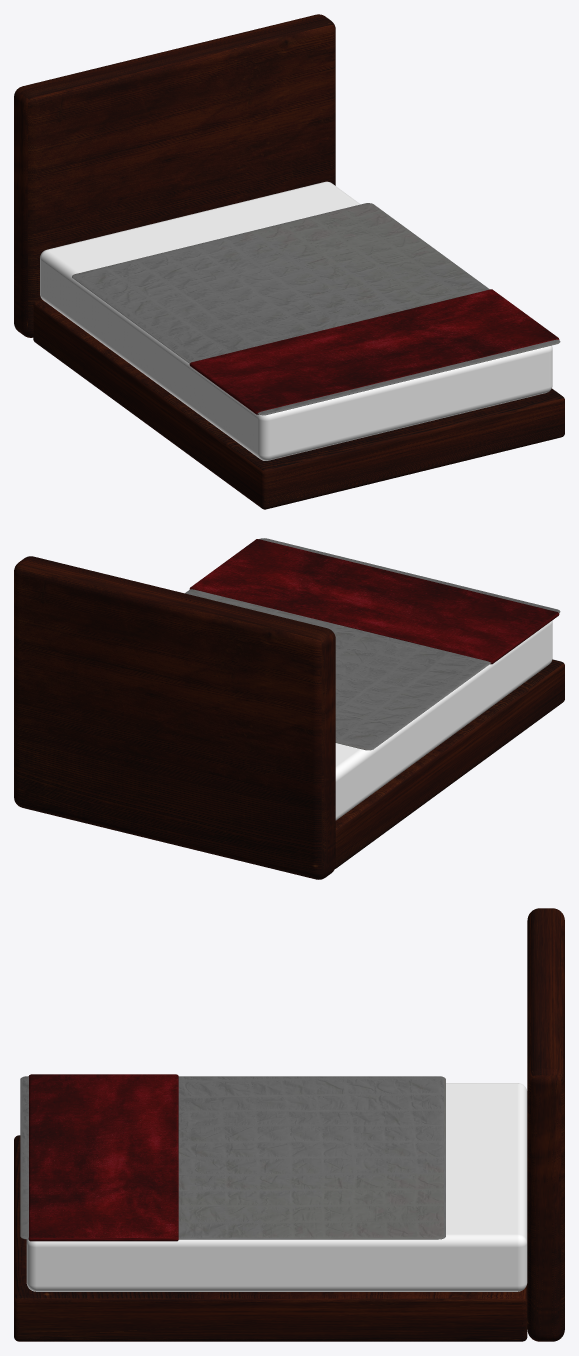
The model's file is state-default.glb.
3 renders of one model, top to bottom at view 1: azimuth 30°, elevation 25°; view 2: azimuth 150°, elevation 25°; view 3: azimuth 270°, elevation 25°, orthographic. The views are drawn at different scales.
Parts seen in each view (by area): view 1: assetPrim:28f8380d2b909-19c7325a1fe:bed-headboard-tufted, assetPrim:28f8380d2b909-19c7325a1fe:bed-duvet-cover, assetPrim:28f8380d2b909-19c7325a1fe:bed-mattress-core, assetPrim:28f8380d2b909-19c7325a1fe:bed-frame-base, assetPrim:28f8380d2b909-19c7325a1fe:bed-throw-blanket; view 2: assetPrim:28f8380d2b909-19c7325a1fe:bed-headboard-tufted, assetPrim:28f8380d2b909-19c7325a1fe:bed-throw-blanket, assetPrim:28f8380d2b909-19c7325a1fe:bed-duvet-cover, assetPrim:28f8380d2b909-19c7325a1fe:bed-frame-base, assetPrim:28f8380d2b909-19c7325a1fe:bed-mattress-core; view 3: assetPrim:28f8380d2b909-19c7325a1fe:bed-duvet-cover, assetPrim:28f8380d2b909-19c7325a1fe:bed-mattress-core, assetPrim:28f8380d2b909-19c7325a1fe:bed-frame-base, assetPrim:28f8380d2b909-19c7325a1fe:bed-throw-blanket, assetPrim:28f8380d2b909-19c7325a1fe:bed-headboard-tufted.
Part boxes in pixels (x1,y1,x2,y2): assetPrim:28f8380d2b909-19c7325a1fe:bed-headboard-tufted: [14, 14, 335, 337]; assetPrim:28f8380d2b909-19c7325a1fe:bed-duvet-cover: [72, 203, 560, 415]; assetPrim:28f8380d2b909-19c7325a1fe:bed-mattress-core: [40, 181, 552, 460]; assetPrim:28f8380d2b909-19c7325a1fe:bed-frame-base: [33, 300, 564, 509]; assetPrim:28f8380d2b909-19c7325a1fe:bed-throw-blanket: [189, 289, 559, 414]; assetPrim:28f8380d2b909-19c7325a1fe:bed-headboard-tufted: [14, 556, 335, 879]; assetPrim:28f8380d2b909-19c7325a1fe:bed-throw-blanket: [189, 539, 559, 664]; assetPrim:28f8380d2b909-19c7325a1fe:bed-duvet-cover: [185, 538, 560, 750]; assetPrim:28f8380d2b909-19c7325a1fe:bed-frame-base: [335, 659, 564, 868]; assetPrim:28f8380d2b909-19c7325a1fe:bed-mattress-core: [335, 620, 552, 820]; assetPrim:28f8380d2b909-19c7325a1fe:bed-duvet-cover: [20, 1076, 445, 1239]; assetPrim:28f8380d2b909-19c7325a1fe:bed-mattress-core: [26, 1083, 527, 1291]; assetPrim:28f8380d2b909-19c7325a1fe:bed-frame-base: [14, 1135, 527, 1341]; assetPrim:28f8380d2b909-19c7325a1fe:bed-throw-blanket: [28, 1074, 178, 1241]; assetPrim:28f8380d2b909-19c7325a1fe:bed-headboard-tufted: [527, 908, 564, 1341].
Bounding box in the file's own units: 1.6 × 1.2 × 2.2.
5 materials, 4 textured.
